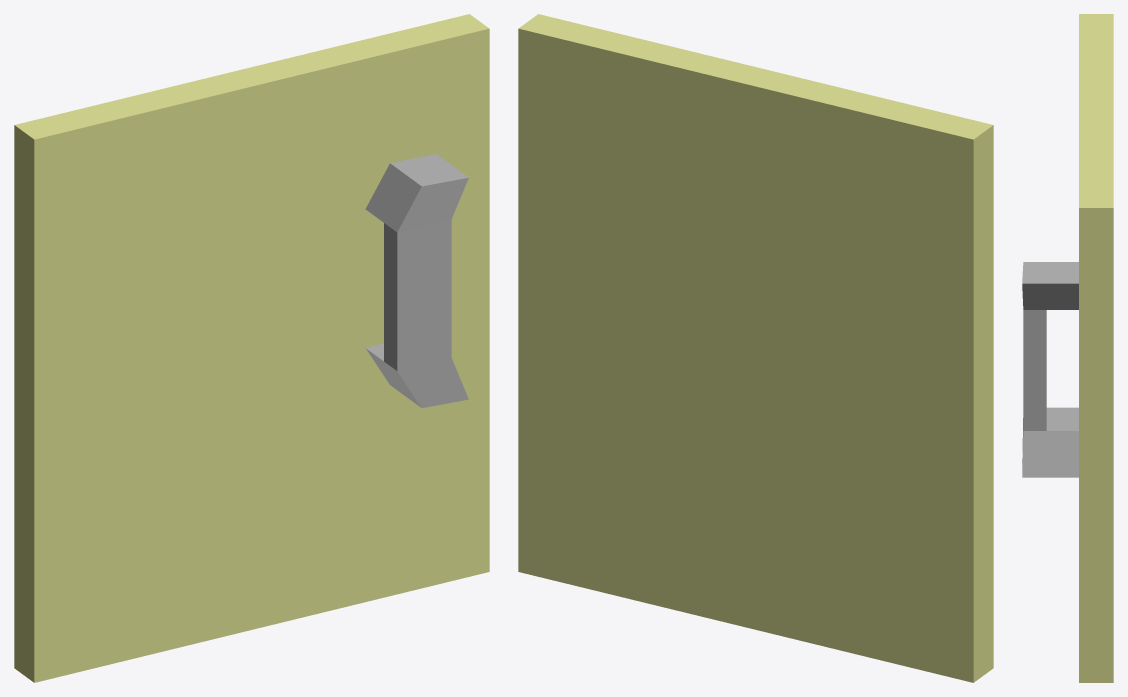
Rendered from PuertaEncimeraIzq.fbx.
3 views of the same model, side by side, from view 1: azimuth 30°, elevation 25°; view 2: azimuth 150°, elevation 25°; view 3: azimuth 270°, elevation 25° (orthographic). The views are drawn at different scales.
Visible parts, largest first — view 1: PuertaEnzimeraIzq; view 2: PuertaEnzimeraIzq; view 3: PuertaEnzimeraIzq.
Part boxes in pixels (box(x1,y1,x2,y2)): PuertaEnzimeraIzq: box(14, 14, 489, 682); PuertaEnzimeraIzq: box(518, 14, 993, 682); PuertaEnzimeraIzq: box(1022, 14, 1113, 682).
Bounding box in the file's own units: 199 × 227 × 39.61.
